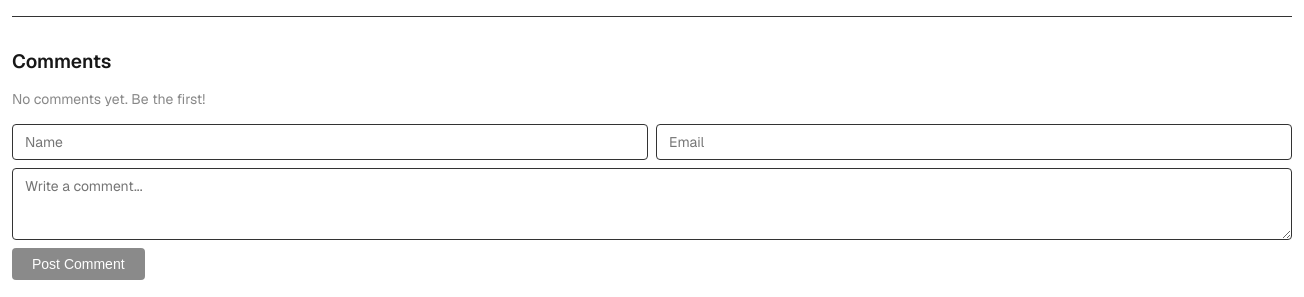
Test: Comments › enables submit when all fields filled
Type "Test" into the field with placeholder "Name".
click(330, 142); type("Test")  # box [12,124,648,160]
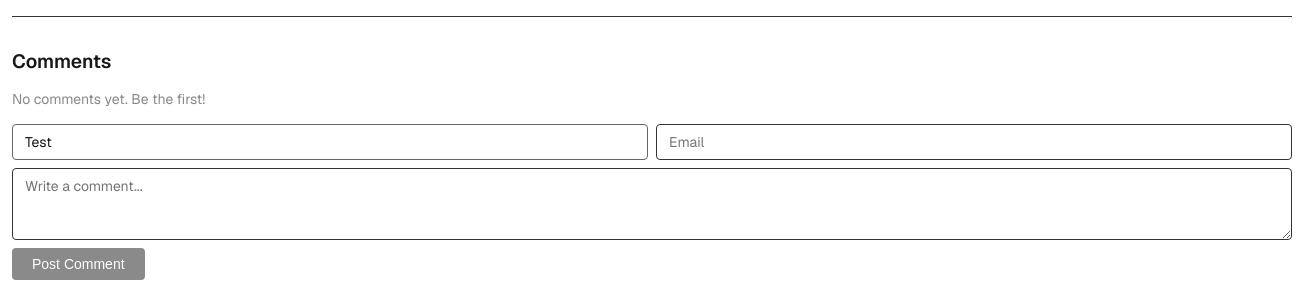
Type "test@test.com" into the field with placeholder "Email".
click(974, 142); type("test@test.com")  # box [656,124,1292,160]
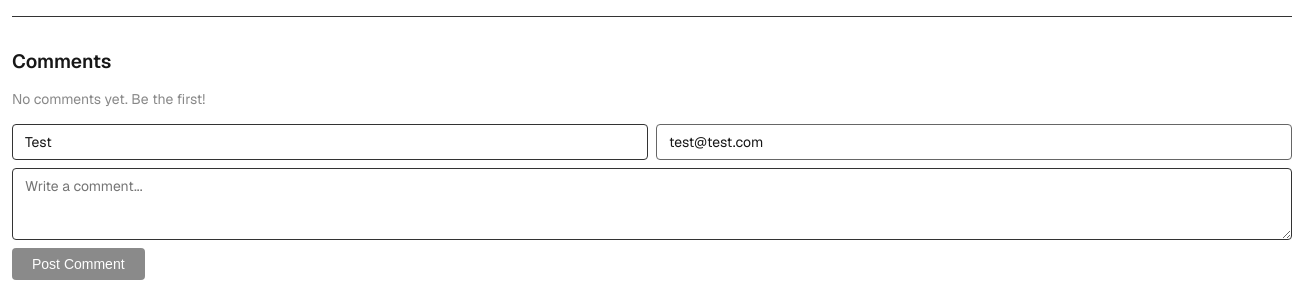
Type "Nice!" into the text box with placeholder "Write a comment...".
click(652, 204); type("Nice!")  # box [12,168,1292,240]
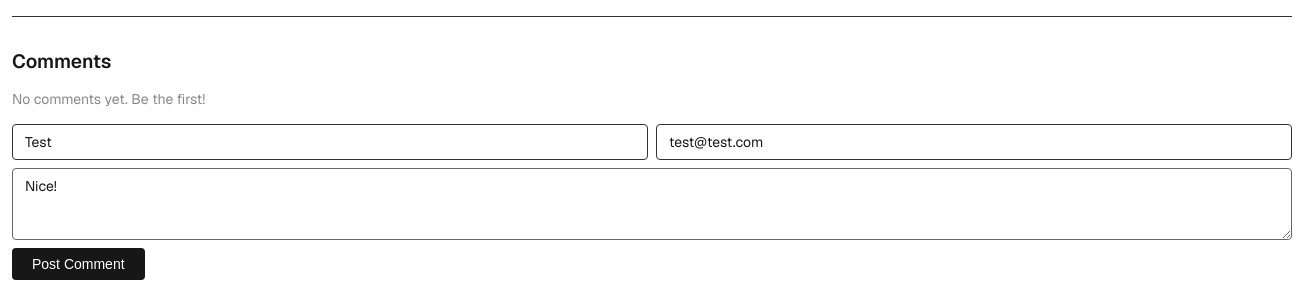
Expected: the button "Post Comment" is enabled, [12,248,145,280]
